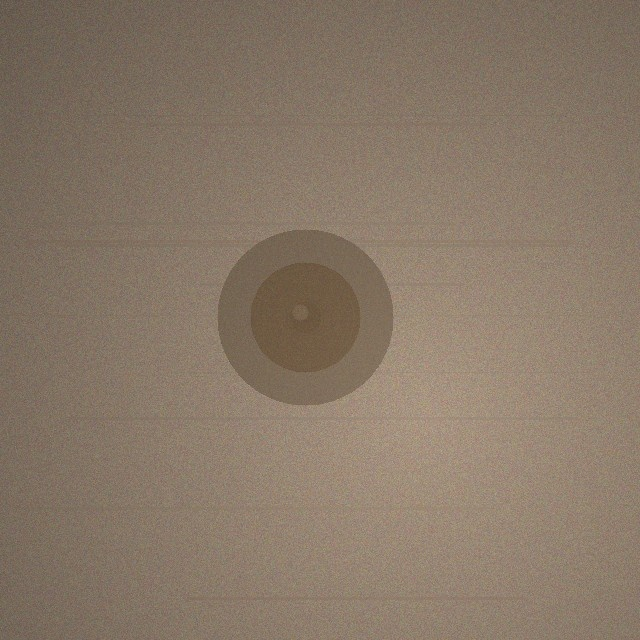good: (217, 229, 393, 405)
